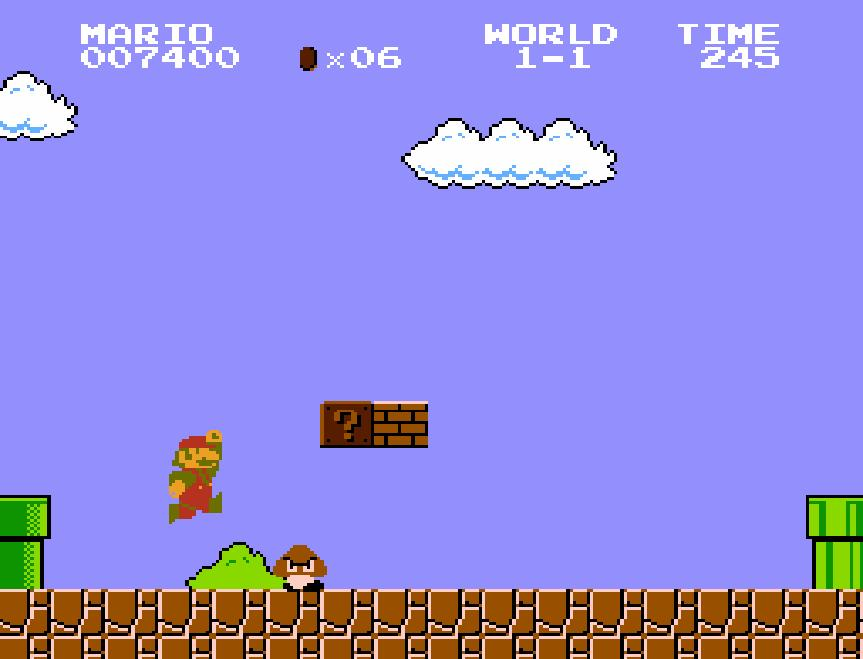big_mario: (166, 428, 224, 526)
